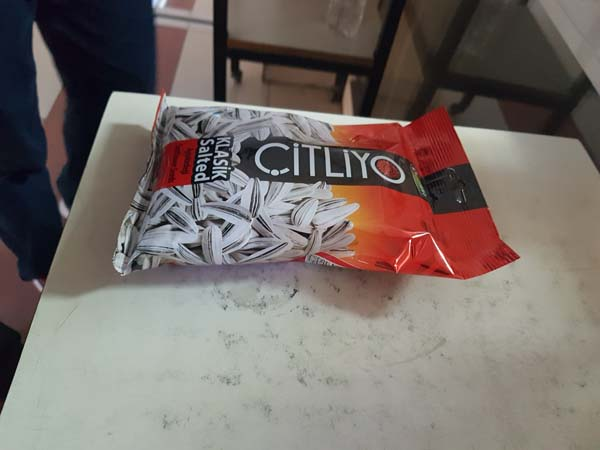citliyorklasik: (108, 88, 522, 280)
